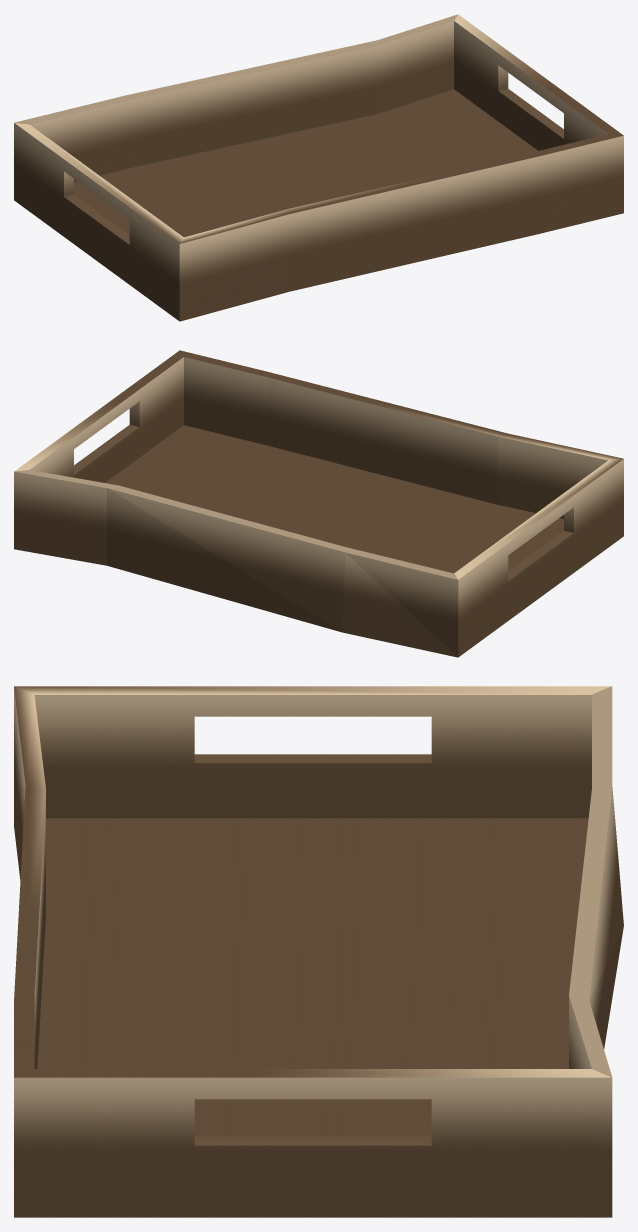
Rendered from Wood_box.FBX.
3 renders of one model, top to bottom at view 1: azimuth 30°, elevation 25°; view 2: azimuth 150°, elevation 25°; view 3: azimuth 270°, elevation 25°, orthographic. The views are drawn at different scales.
Parts seen in each view (by area): view 1: Wood box; view 2: Wood box; view 3: Wood box.
Part boxes in pixels (x1,y1,x2,y2): Wood box: [14, 14, 623, 321]; Wood box: [14, 350, 623, 657]; Wood box: [14, 686, 623, 1217].
Bounding box in the file's own units: 19.16 × 3.2 × 12.63.
1 material, 1 textured.
